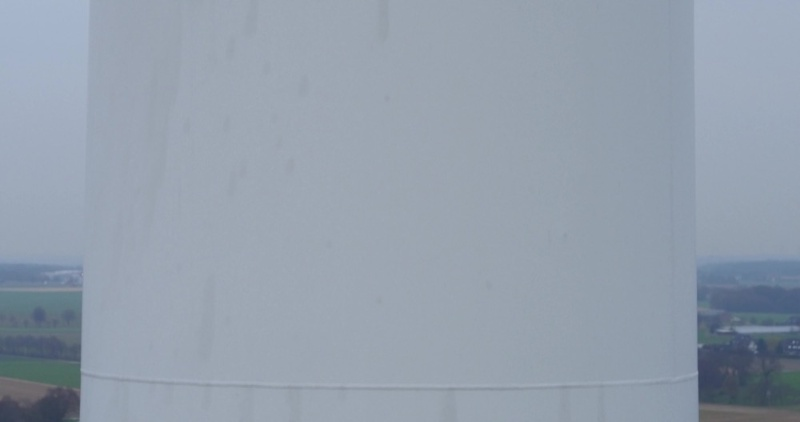weldseam: (79, 361, 700, 402)
